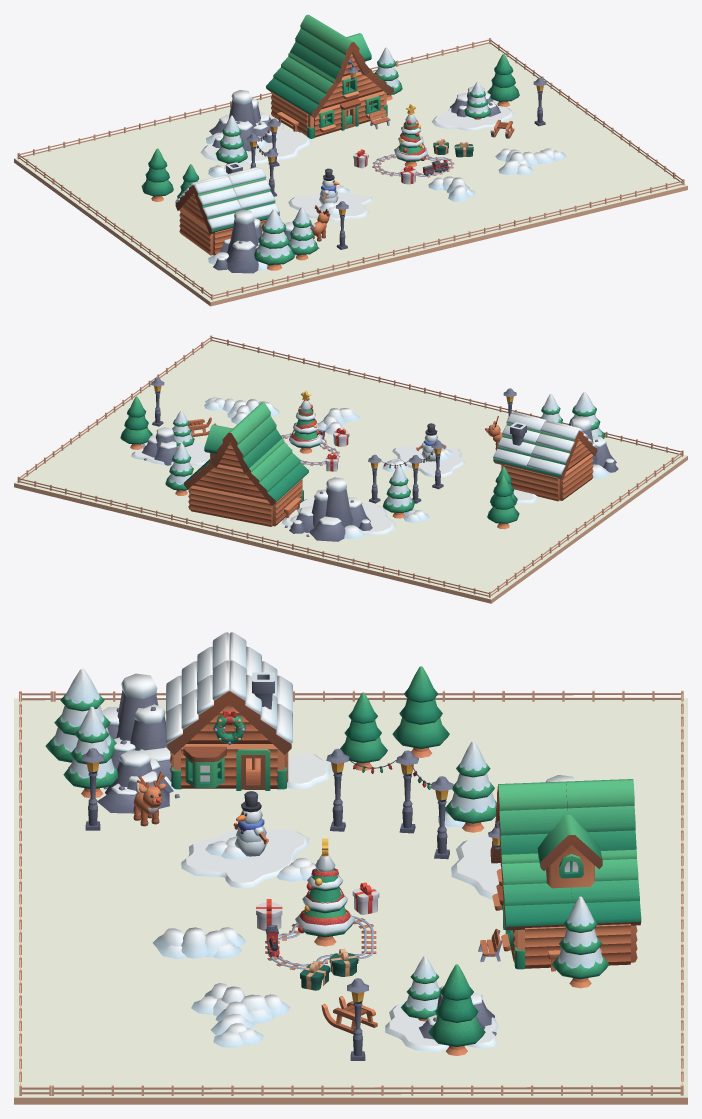
Rendered from Level1Map-snow.glb.
The picture shows the model from 3 angles, top to bottom: view 1: azimuth 30°, elevation 25°; view 2: azimuth 150°, elevation 25°; view 3: azimuth 270°, elevation 25°; orthographic projection. The views are drawn at different scales.
Parts seen in each view (by area): view 1: cliff_block_rock, rocks-large, rocks-large.001, cabin-roof-snow.001, cabin-roof-snow, cabin-roof-point, tree-snow-a.002, cabin-roof.002, snow-flat-large.002, snow-flat-large.001, cabin-roof.003, tree-decorated-snow.001 (+17 smaller); view 2: cliff_block_rock, rocks-large.001, cabin-roof-snow.002, cabin-roof-snow-chimney, cabin-roof-point.001, cabin-roof.003, tree-decorated-snow.001, snow-flat-large.001, rocks-large, tree.002, tree-snow-a.004, cabin-roof.002 (+18 smaller); view 3: cliff_block_rock, cabin-roof-point, rocks-large, cabin-roof-point.001, cabin-roof, snow-flat-large.001, cabin-roof.001, cabin-roof-dormer, cabin-roof-snow-chimney, tree-decorated-snow.001, cabin-roof-snow, tree-snow-a.003 (+32 smaller).
Part boxes in pixels (bbox=[...]): cliff_block_rock: bbox=[14, 42, 687, 306]; rocks-large: bbox=[208, 209, 267, 273]; rocks-large.001: bbox=[206, 90, 276, 151]; cabin-roof-snow.001: bbox=[193, 176, 241, 234]; cabin-roof-snow: bbox=[228, 168, 279, 220]; cabin-roof-point: bbox=[313, 28, 369, 83]; tree-snow-a.002: bbox=[254, 209, 294, 270]; cabin-roof.002: bbox=[289, 66, 339, 118]; snow-flat-large.002: bbox=[200, 120, 312, 164]; snow-flat-large.001: bbox=[288, 192, 372, 221]; cabin-roof.003: bbox=[266, 52, 312, 102]; tree-decorated-snow.001: bbox=[394, 104, 427, 167]; cliff_block_rock: bbox=[14, 340, 687, 603]; rocks-large.001: bbox=[284, 477, 372, 541]; cabin-roof-snow.002: bbox=[526, 421, 579, 479]; cabin-roof-snow-chimney: bbox=[493, 413, 544, 470]; cabin-roof-point.001: bbox=[211, 417, 265, 472]; cabin-roof.003: bbox=[245, 453, 292, 505]; tree-decorated-snow.001: bbox=[289, 390, 322, 453]; snow-flat-large.001: bbox=[392, 442, 464, 477]; rocks-large: bbox=[570, 416, 618, 478]; tree.002: bbox=[487, 475, 519, 529]; tree-snow-a.004: bbox=[382, 465, 414, 518]; cabin-roof.002: bbox=[266, 438, 308, 487]; cliff_block_rock: bbox=[14, 698, 687, 1104]; cabin-roof-point: bbox=[495, 781, 567, 860]; rocks-large: bbox=[102, 673, 175, 791]; cabin-roof-point.001: bbox=[565, 779, 636, 850]; cabin-roof: bbox=[501, 853, 572, 930]; snow-flat-large.001: bbox=[181, 828, 309, 888]; cabin-roof.001: bbox=[571, 849, 641, 925]; cabin-roof-dormer: bbox=[537, 814, 602, 888]; cabin-roof-snow-chimney: bbox=[229, 660, 292, 754]; tree-decorated-snow.001: bbox=[295, 838, 355, 946]; cabin-roof-snow: bbox=[166, 660, 229, 754]; tree-snow-a.003: bbox=[552, 896, 609, 988].
Size of the model in its own units: 151 by 27.72 by 108.
Materials: 331 (117 with a texture image).
